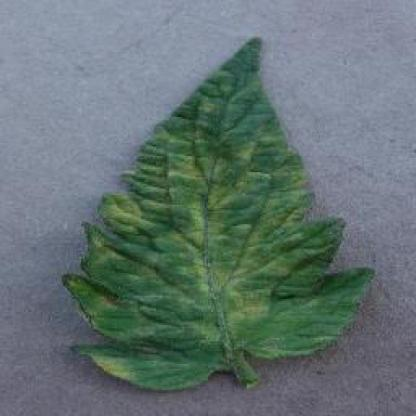Tomato_Leaf_Mold: (67, 33, 371, 385)
